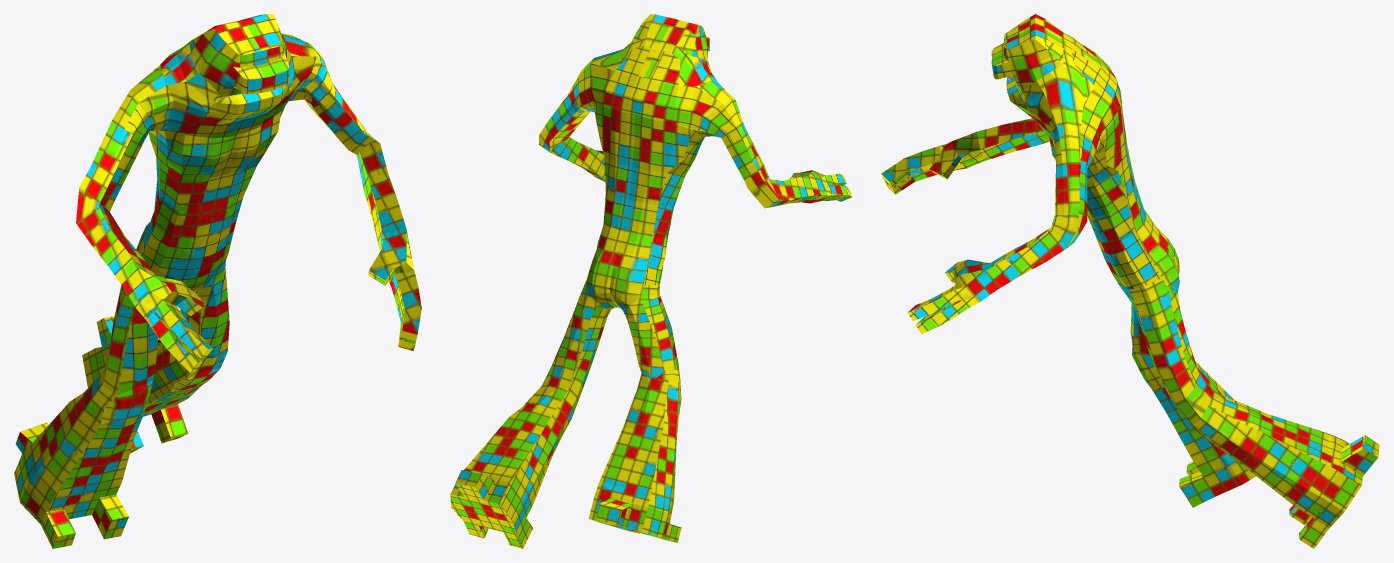
File: sinergiaFloat.DAE
The picture shows the model from 3 angles, left to right: view 1: azimuth 30°, elevation 25°; view 2: azimuth 150°, elevation 25°; view 3: azimuth 270°, elevation 25°; orthographic projection. The views are drawn at different scales.
Parts seen in each view (by area): view 1: sinergia; view 2: sinergia; view 3: sinergia.
Boxes of the visible parts, left/top/right/bottom form: sinergia: left=14, top=14, right=421, bottom=548; sinergia: left=450, top=14, right=852, bottom=548; sinergia: left=881, top=14, right=1379, bottom=548.
Size of the model in its own units: 2.05 by 3.37 by 3.7.
Materials: 1 (1 with a texture image).
